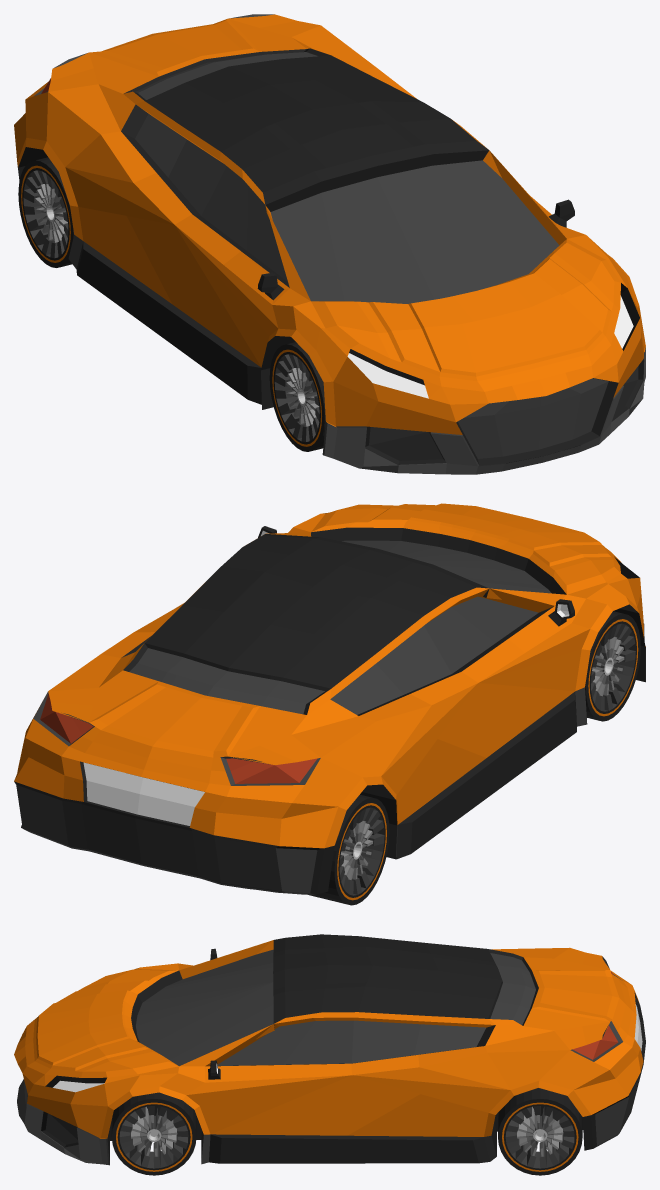
Rendered from savagerivaleroadyachtgts.fbx.
3 renders of one model, top to bottom at view 1: azimuth 30°, elevation 25°; view 2: azimuth 150°, elevation 25°; view 3: azimuth 270°, elevation 25°, orthographic. The views are drawn at different scales.
Parts seen in each view (by area): view 1: OrangeBody, FrontRight, BackRight; view 2: OrangeBody, BackRight, FrontRight; view 3: OrangeBody, BackLeft, FrontLeft.
Boxes of the visible parts, x1,y1,x2,y2 form: OrangeBody: (14, 14, 645, 474); FrontRight: (269, 342, 325, 451); BackRight: (18, 157, 74, 267); OrangeBody: (14, 503, 645, 894); BackRight: (308, 794, 389, 905); FrontRight: (585, 611, 640, 721); OrangeBody: (14, 934, 645, 1165); BackLeft: (498, 1088, 582, 1175); FrontLeft: (111, 1092, 196, 1175).
Size of the model in its own units: 2.07 by 4.41 by 1.17.
